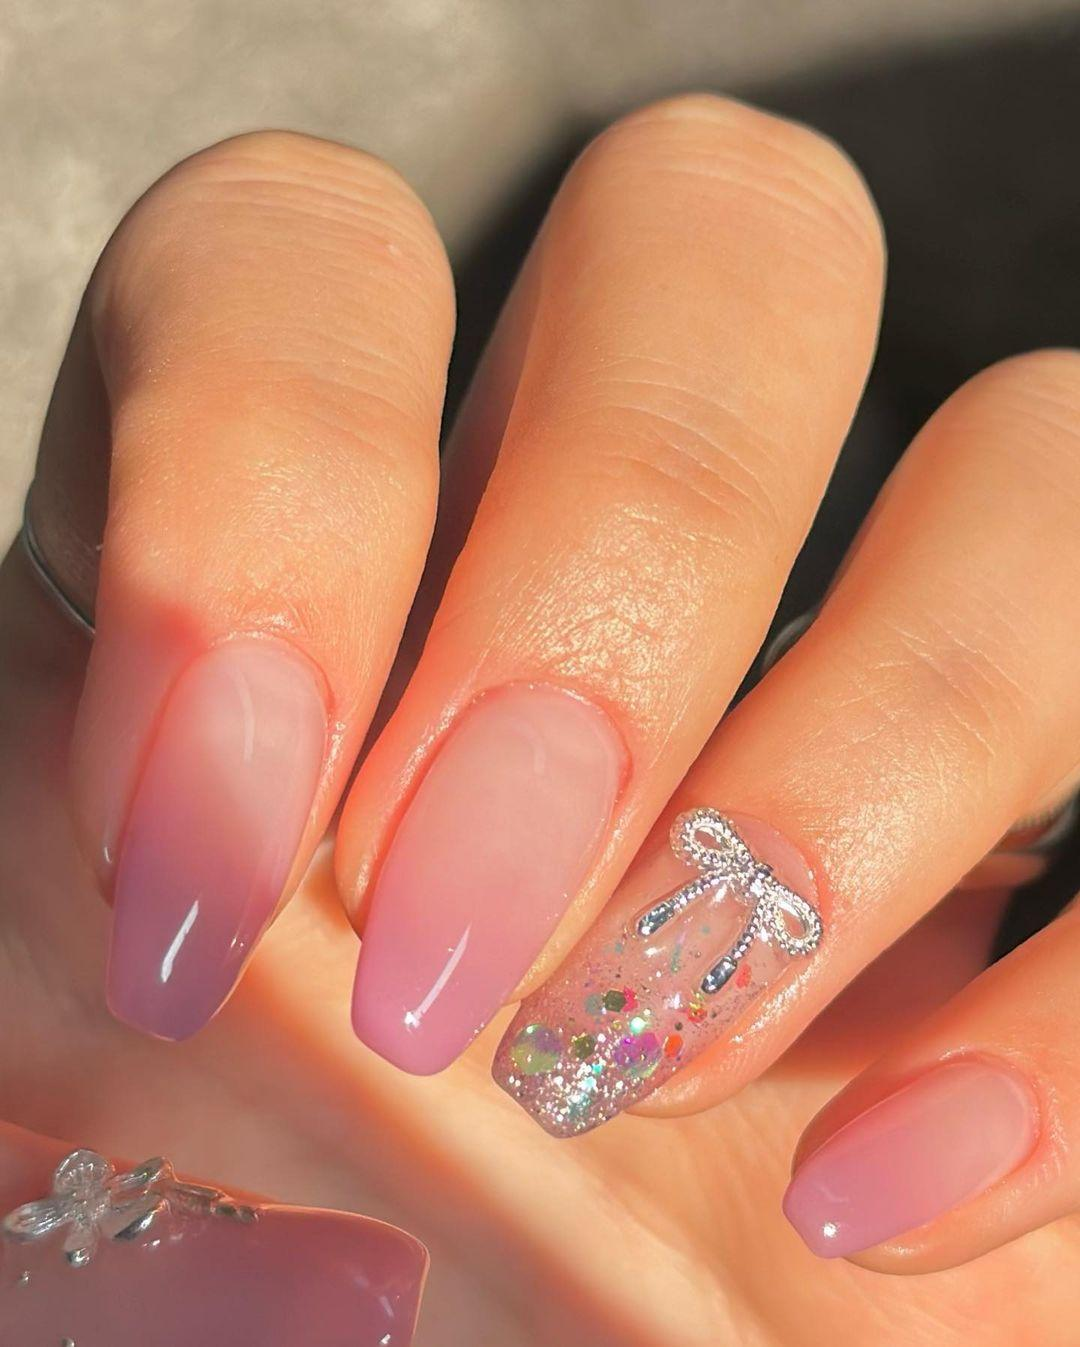nail: (334, 88, 888, 1075), (61, 125, 459, 1042), (780, 890, 1077, 1276), (348, 676, 632, 1077), (490, 803, 824, 1138), (101, 630, 333, 1043), (1, 1123, 431, 1345)
